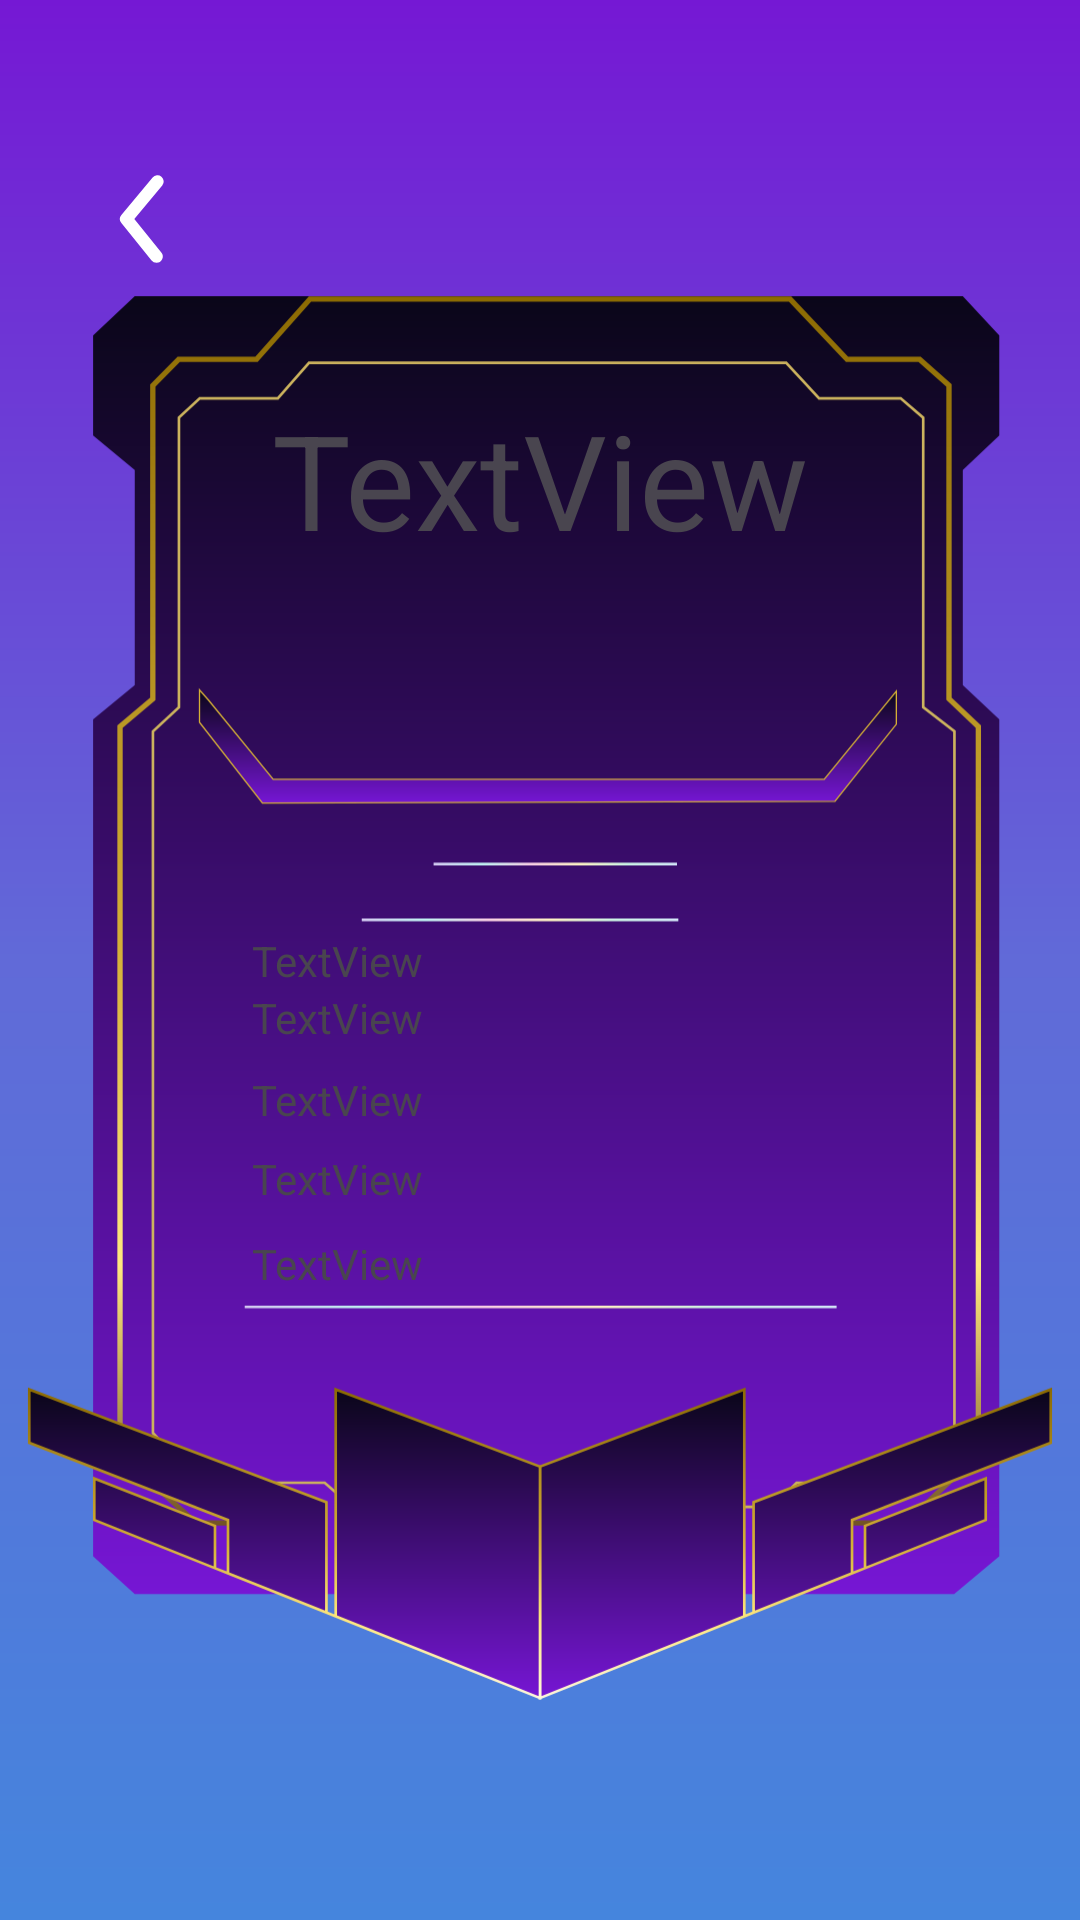

Where to tap for icons on this 1080 × 1920 app screen, as [x,y]:
arrow back: [141,219]
